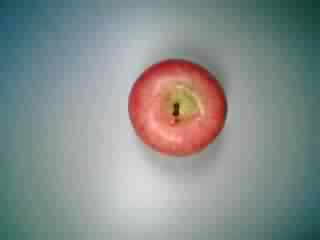apple: (128, 56, 230, 160)
